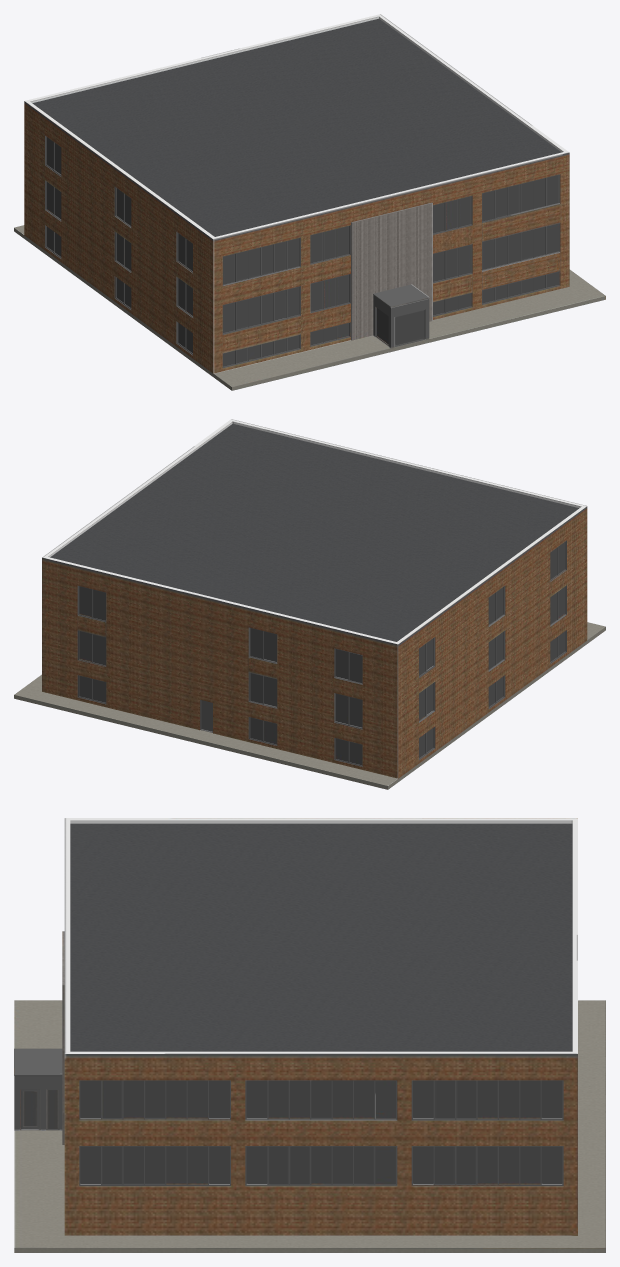
File: House of Antoine.fbx
The picture shows the model from 3 angles, top to bottom: view 1: azimuth 30°, elevation 25°; view 2: azimuth 150°, elevation 25°; view 3: azimuth 270°, elevation 25°; orthographic projection. The views are drawn at different scales.
Parts seen in each view (by area): view 1: House of Antoine_LOD0; view 2: House of Antoine_LOD0; view 3: House of Antoine_LOD0.
Boxes of the visible parts, bbox=[...] form: House of Antoine_LOD0: bbox=[14, 14, 605, 390]; House of Antoine_LOD0: bbox=[14, 419, 605, 789]; House of Antoine_LOD0: bbox=[14, 818, 605, 1252].
Size of what is drawn, in the model's own units: 2625 by 925 by 2652.
Materials: 1 (1 with a texture image).
